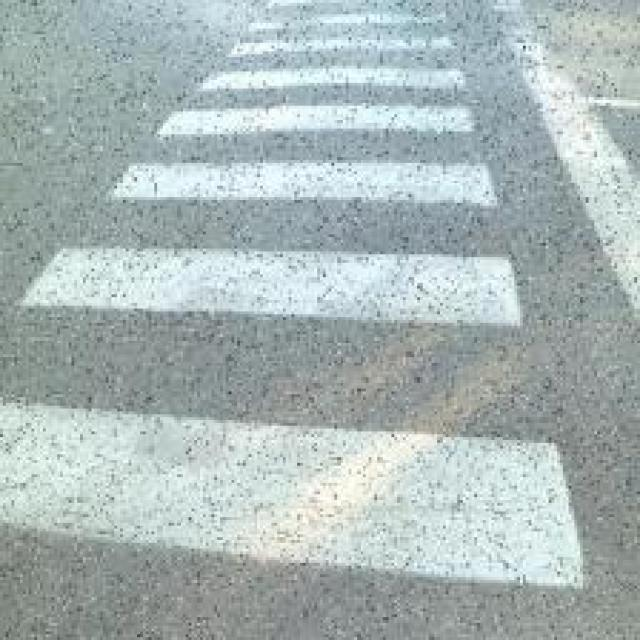walk-crossing: (0, 0, 603, 609)
